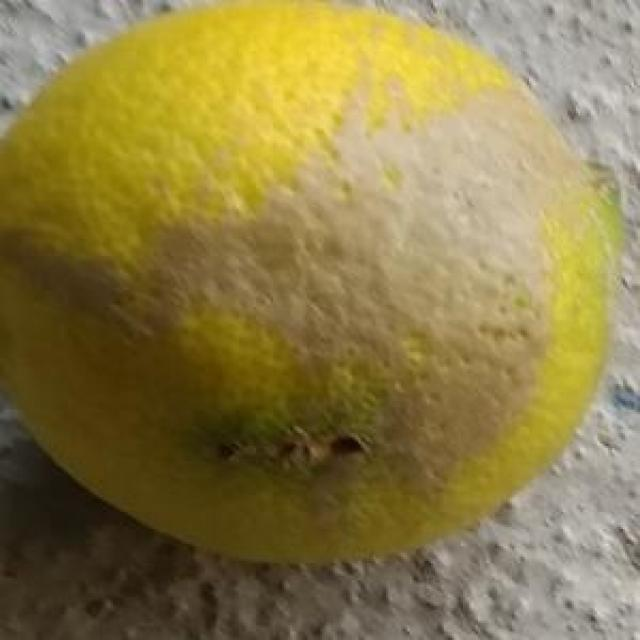lemon: (0, 1, 625, 564)
